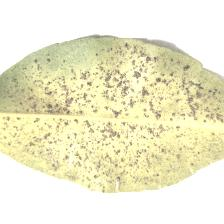canker: (50, 52, 191, 172)
